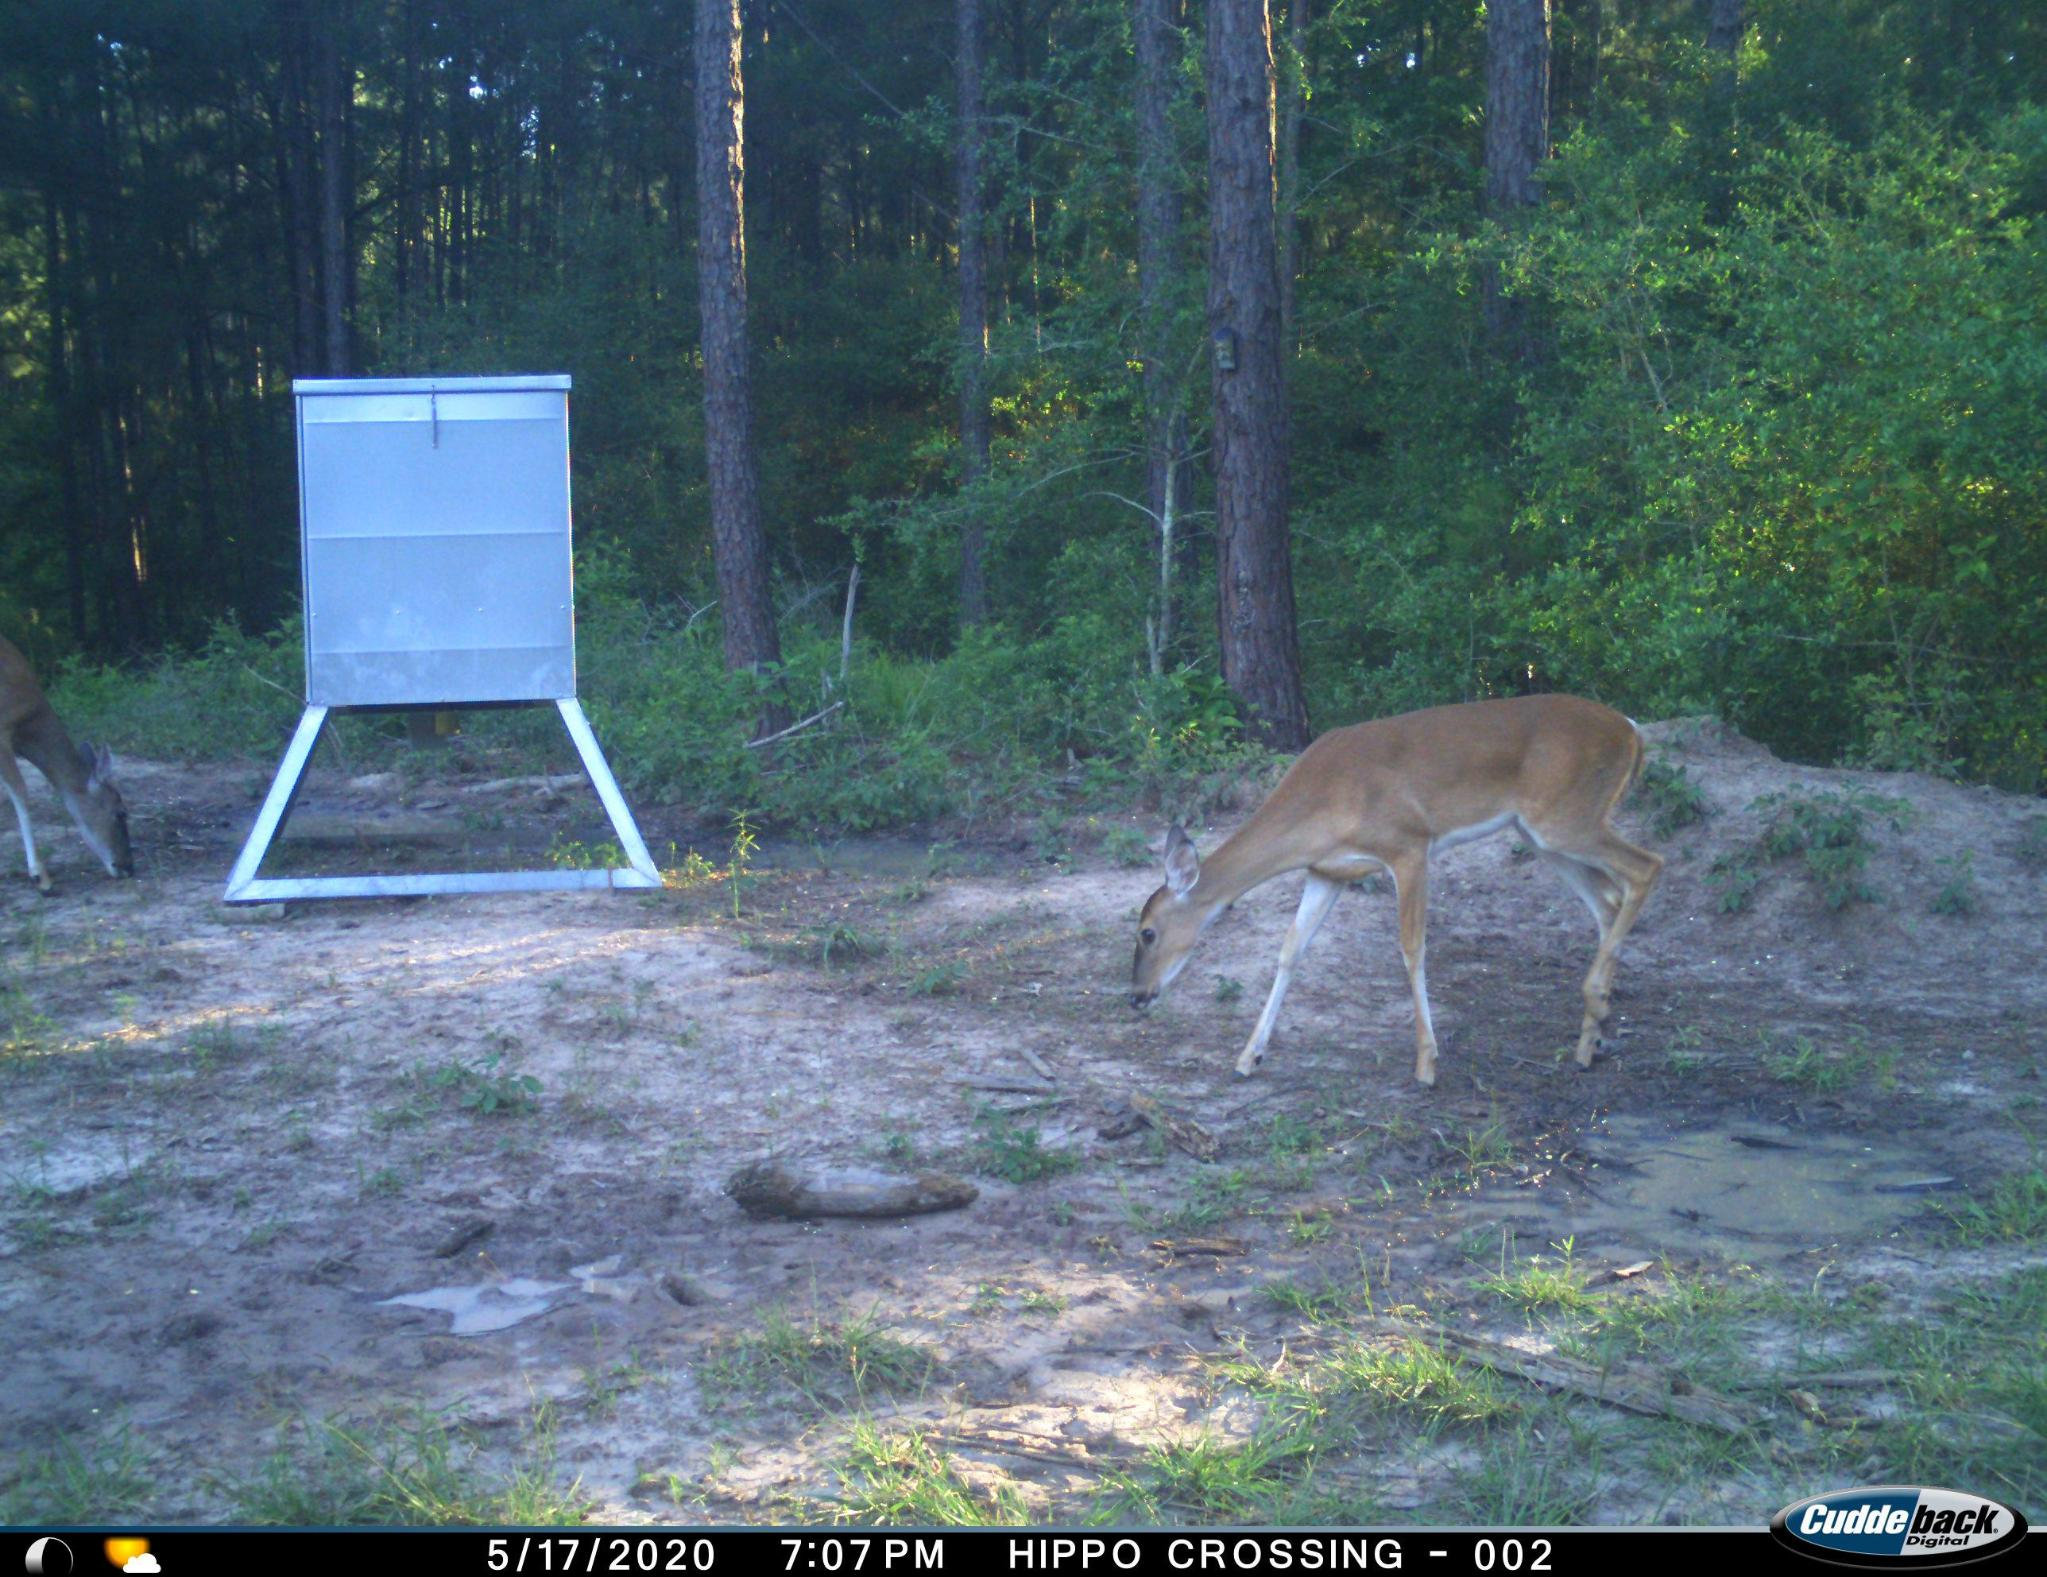Deer: (1106, 684, 1681, 1095), (0, 595, 146, 911)
